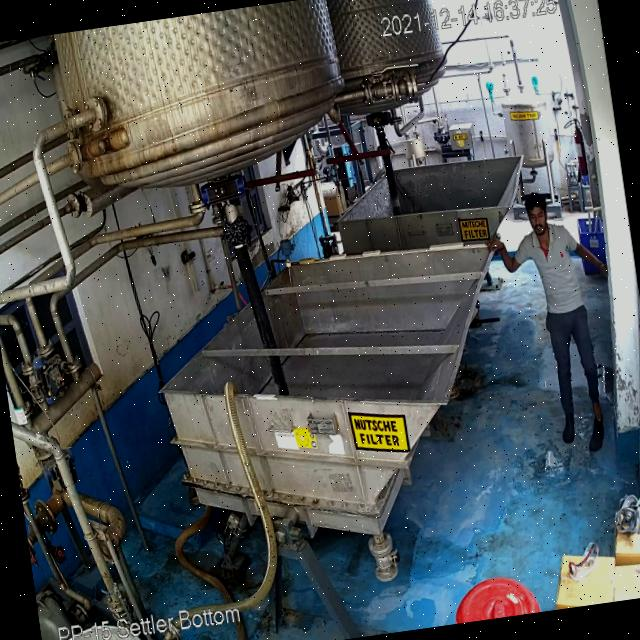boots: (556, 406, 582, 448), (584, 416, 608, 454)
no-boots: (587, 388, 608, 424)
